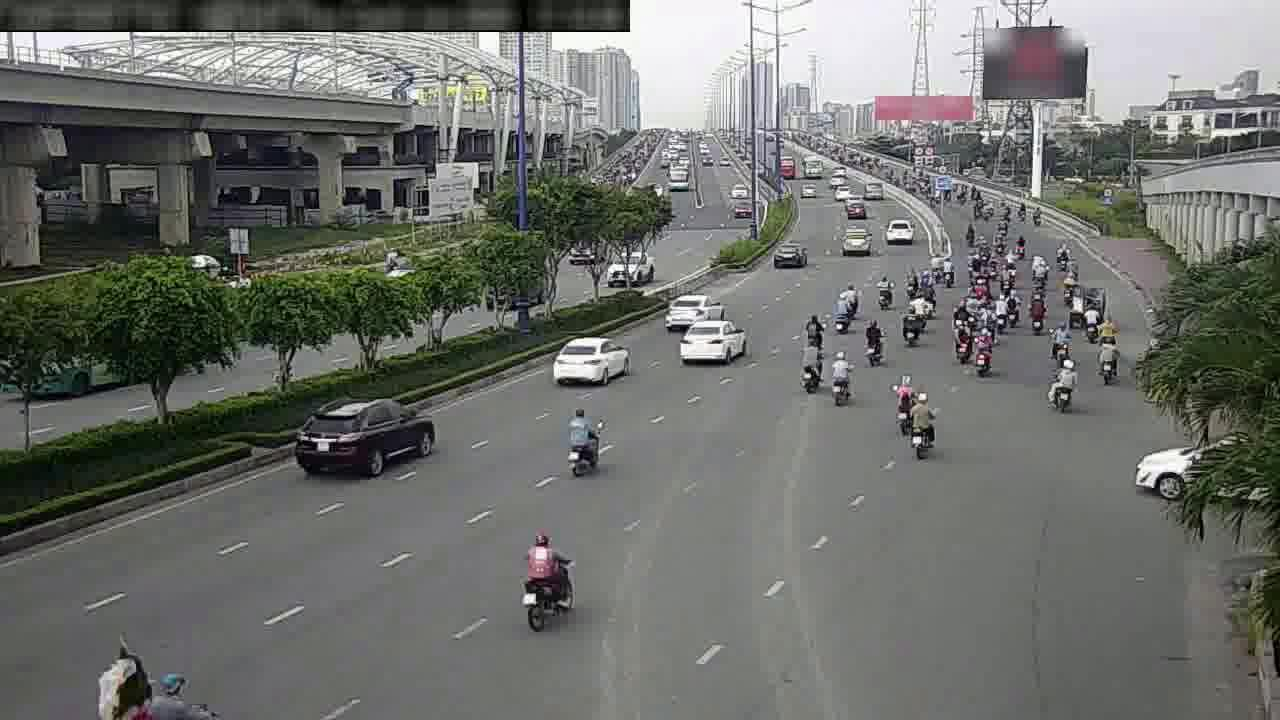container: (300, 390, 432, 476), (555, 335, 626, 387), (681, 318, 742, 359), (665, 294, 720, 329), (764, 236, 810, 272)
motorbike: (511, 529, 581, 636), (92, 648, 174, 716), (558, 406, 609, 482), (1043, 356, 1081, 413), (823, 347, 858, 406), (909, 392, 939, 454), (1090, 335, 1124, 389), (797, 336, 825, 394), (857, 318, 889, 367), (947, 318, 978, 368), (968, 330, 1000, 378), (896, 302, 926, 348), (798, 305, 829, 348), (1043, 322, 1072, 366), (894, 374, 916, 431), (828, 292, 856, 334), (1023, 293, 1049, 335), (870, 272, 897, 311), (1082, 304, 1107, 343), (901, 265, 925, 298), (935, 255, 958, 288), (966, 269, 988, 301), (952, 295, 968, 332), (925, 278, 942, 312), (997, 293, 1008, 327), (1009, 293, 1020, 327)
